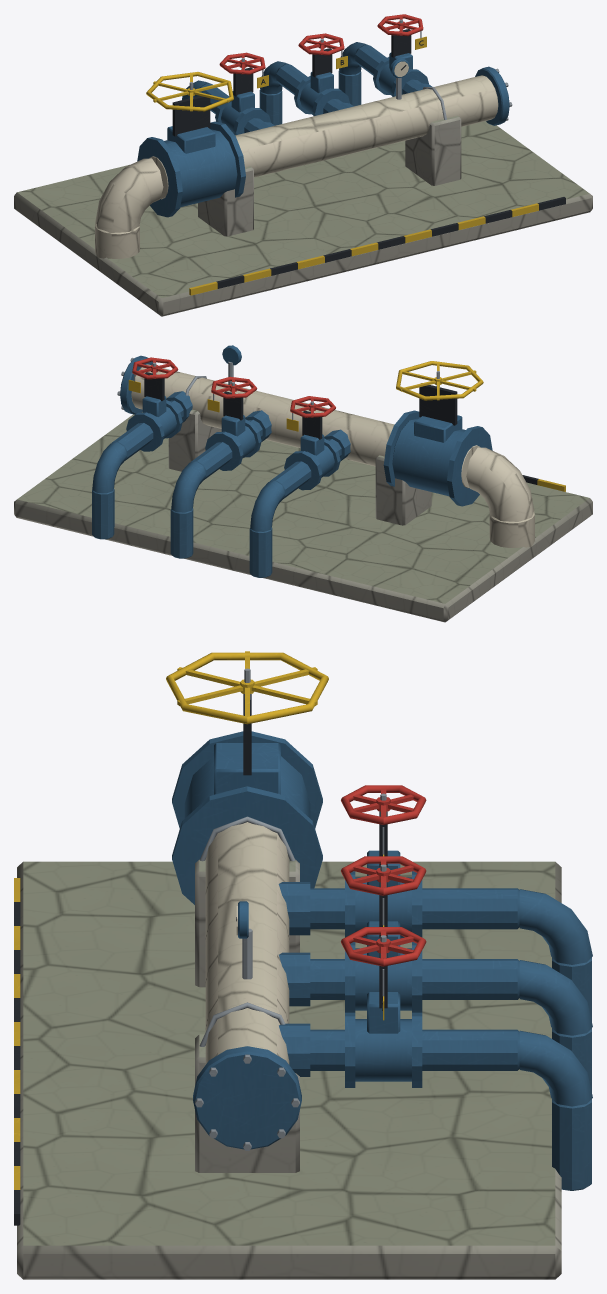
The model's file is valve_manifold.glb.
The picture shows the model from 3 angles, top to bottom: view 1: azimuth 30°, elevation 25°; view 2: azimuth 150°, elevation 25°; view 3: azimuth 270°, elevation 25°; orthographic projection. The views are drawn at different scales.
Visible parts, largest first — view 1: valve_manifold; view 2: valve_manifold; view 3: valve_manifold.
Boxes of the visible parts, left/top/right/bottom form: valve_manifold: left=14, top=14, right=592, bottom=316; valve_manifold: left=14, top=345, right=592, bottom=622; valve_manifold: left=14, top=651, right=592, bottom=1279.
Bounding box in the file's own units: 4.4 × 1.62 × 2.76.
Materials: 13 (13 with a texture image).
